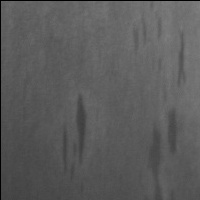inclusion: (56, 90, 91, 180), (140, 115, 166, 200), (128, 8, 166, 59), (172, 25, 194, 91), (163, 105, 185, 158)
